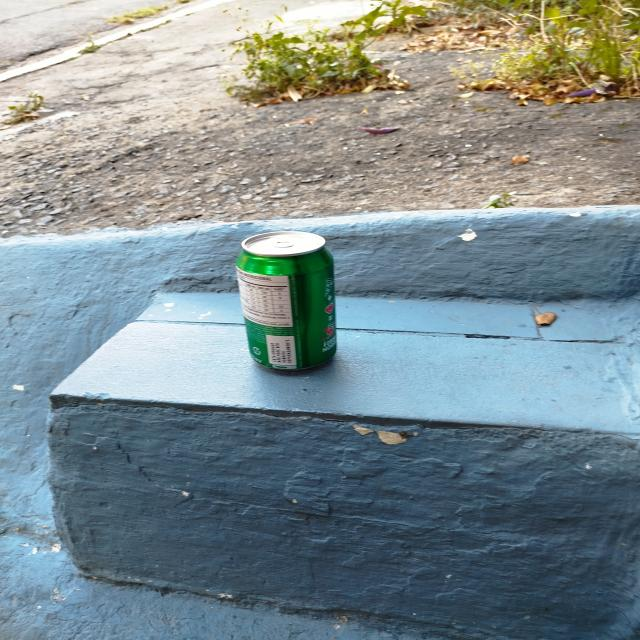Guarana: (235, 226, 334, 380), (236, 231, 339, 369)
